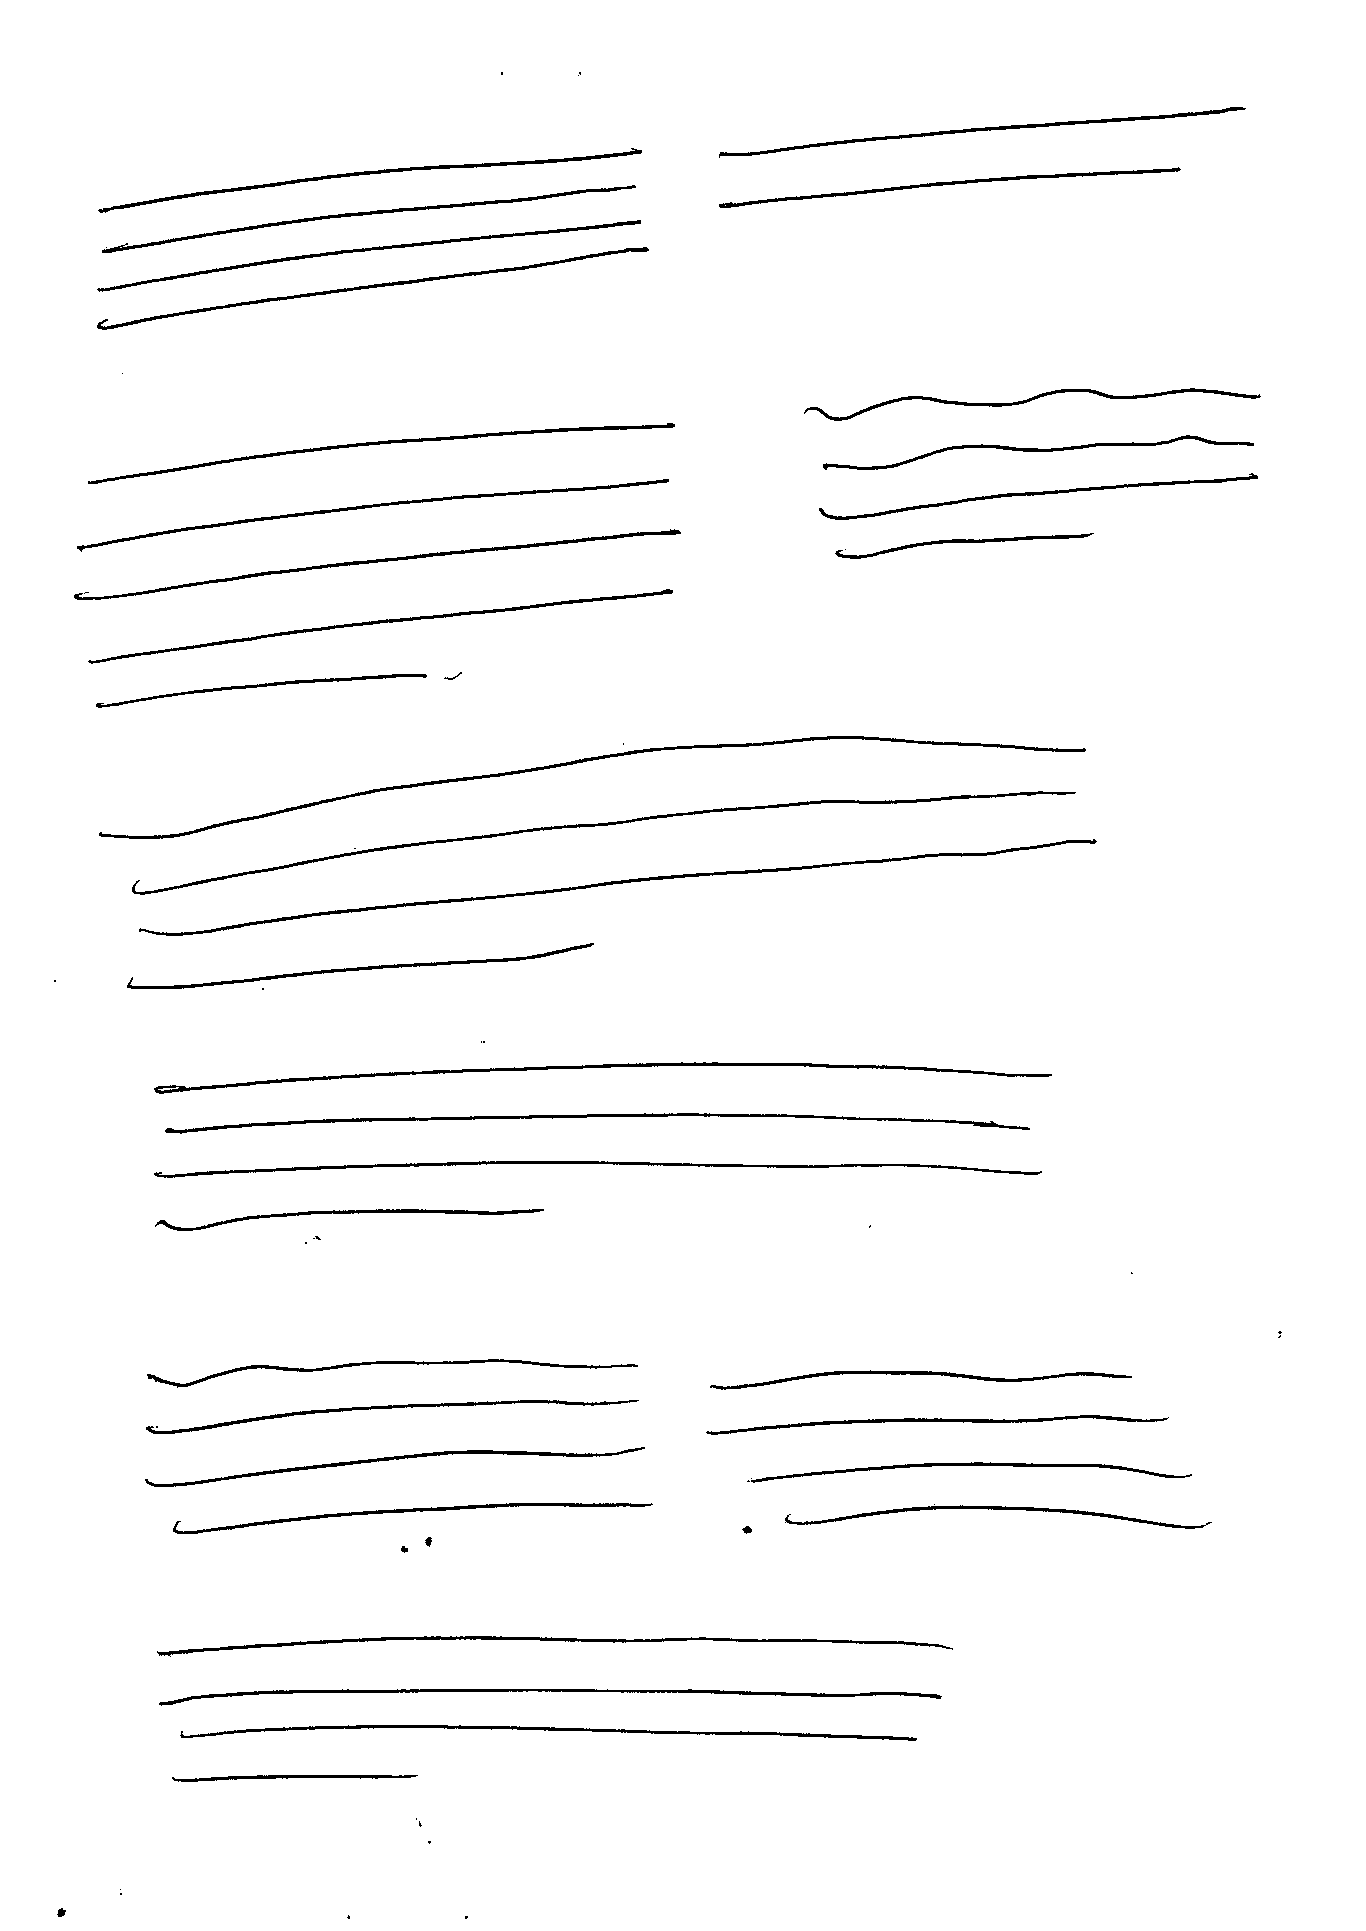Paragraph: (99, 729, 1101, 998), (65, 417, 693, 720), (157, 1059, 1053, 1239), (155, 1631, 954, 1791), (89, 143, 652, 337), (136, 1357, 662, 1542), (696, 1365, 1200, 1530), (801, 384, 1267, 560), (714, 103, 1252, 214)
